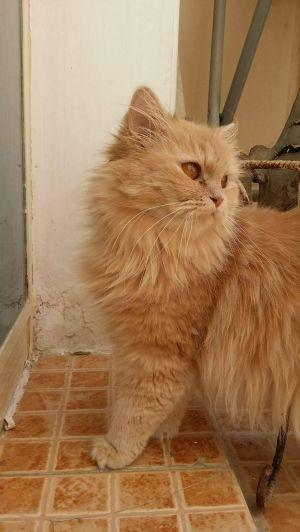persian: (78, 77, 255, 264)
